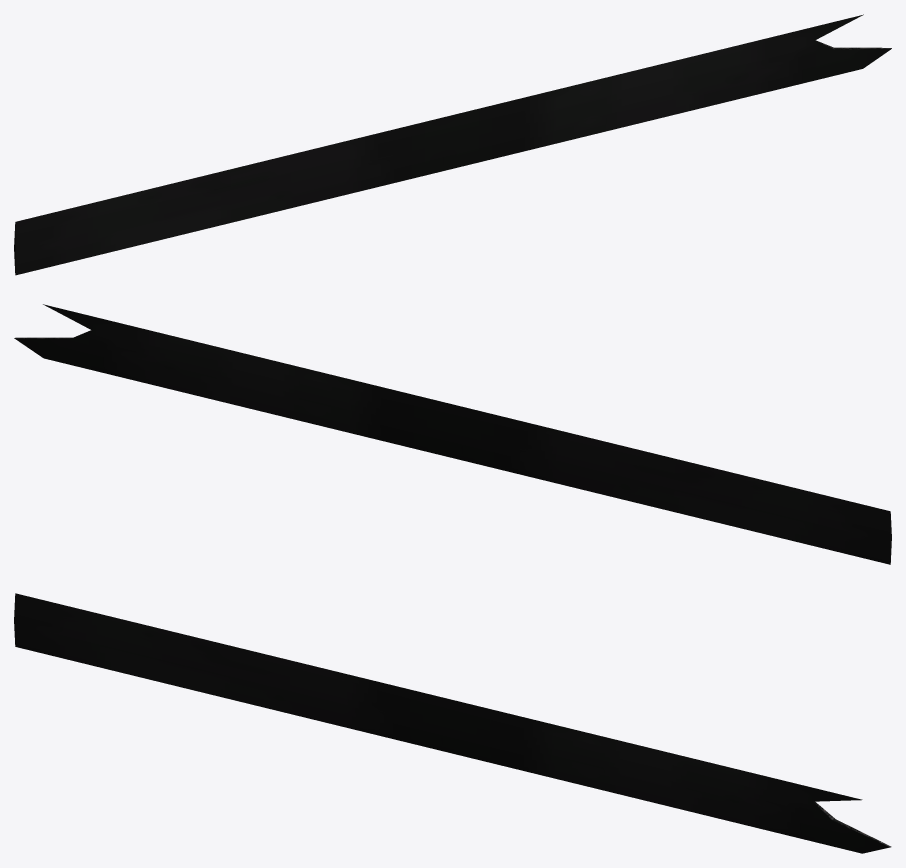
The model's file is veh_t6_drone_overwatch_dead_piece_2_LOD0.obj.
The picture shows the model from 3 angles, top to bottom: view 1: azimuth 30°, elevation 25°; view 2: azimuth 150°, elevation 25°; view 3: azimuth 330°, elevation 25°; orthographic projection.
Visible parts, largest first — view 1: mtl_drone_overwatch_body_dark; view 2: mtl_drone_overwatch_body_dark; view 3: mtl_drone_overwatch_body_dark.
Boxes of the visible parts, x1=… form: mtl_drone_overwatch_body_dark: x1=14, y1=14, x2=891, y2=275; mtl_drone_overwatch_body_dark: x1=14, y1=304, x2=891, y2=564; mtl_drone_overwatch_body_dark: x1=14, y1=593, x2=891, y2=853.
Bounding box in the file's own units: 235 × 13.81 × 0.9786.
